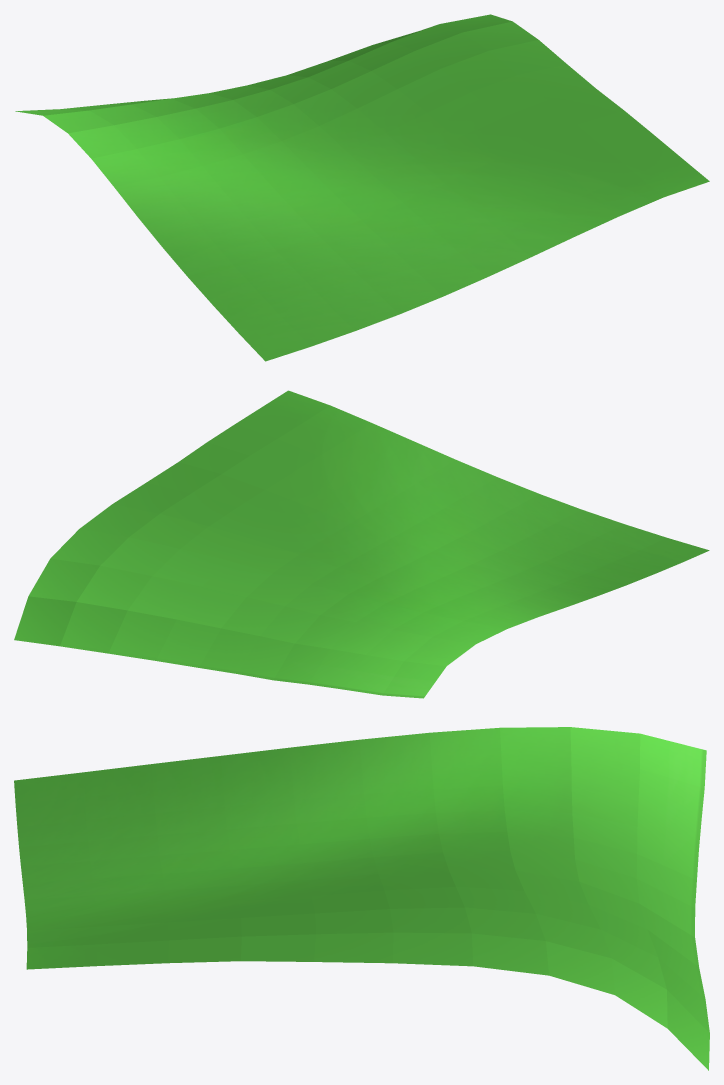
File: ground_0_0.glb
3 views of the same model, one above another, from view 1: azimuth 30°, elevation 25°; view 2: azimuth 150°, elevation 25°; view 3: azimuth 270°, elevation 25° (orthographic). The views are drawn at different scales.
Visible parts, largest first — view 1: Ground_2_0; view 2: Ground_2_0; view 3: Ground_2_0.
Part boxes in pixels (x1,y1,x2,y2): Ground_2_0: [15, 14, 709, 361]; Ground_2_0: [14, 390, 709, 698]; Ground_2_0: [14, 727, 709, 1070].
Bounding box in the file's own units: 91.9 × 15.14 × 95.13.
1 material, 1 textured.
